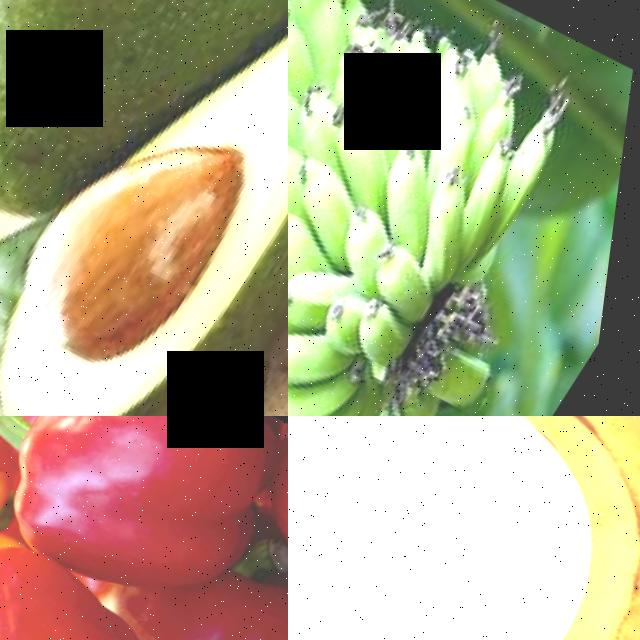avocado: (0, 0, 288, 416), (0, 0, 272, 271)
banana: (288, 0, 637, 416), (288, 416, 640, 640)
bell pepper: (0, 416, 288, 640), (0, 507, 238, 640), (0, 416, 117, 506), (256, 448, 288, 621)
